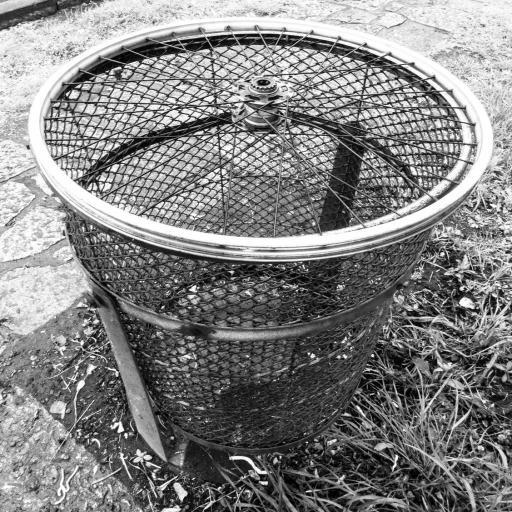trash-can: (12, 12, 500, 492)
